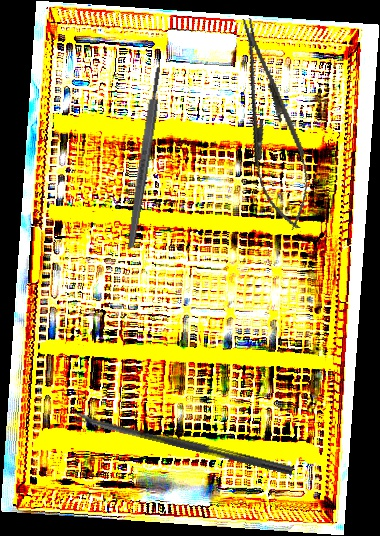Needle Holder: (221, 12, 323, 235)
Scalpel Handle: (124, 65, 165, 250)
Surgical Spoon: (72, 410, 294, 476)
